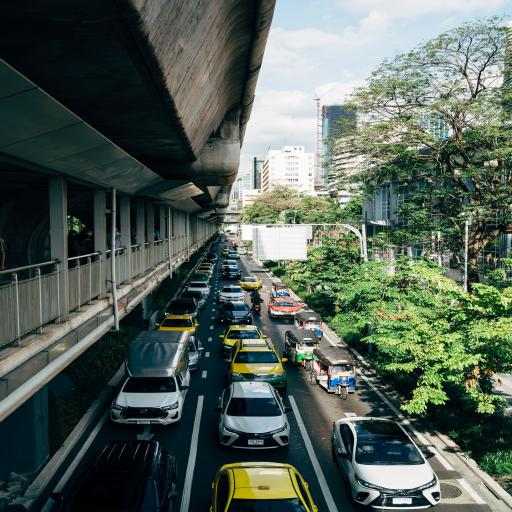car: (332, 417, 440, 509), (52, 441, 178, 511), (111, 331, 190, 424), (211, 462, 317, 511), (215, 382, 292, 448), (111, 370, 190, 425), (228, 339, 287, 391), (220, 325, 267, 354), (156, 315, 198, 334), (218, 302, 252, 324), (166, 298, 200, 318), (268, 298, 300, 317), (189, 336, 203, 370), (181, 291, 206, 308), (219, 286, 244, 302), (187, 280, 210, 297), (239, 276, 262, 290), (222, 267, 240, 279), (195, 266, 214, 277), (191, 273, 211, 282), (222, 260, 238, 269), (199, 262, 214, 270), (205, 254, 218, 263), (237, 245, 247, 254), (228, 251, 239, 259), (222, 249, 231, 256), (218, 238, 225, 242)
